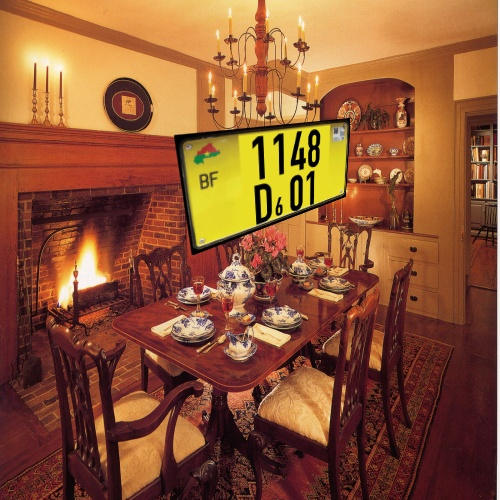plate: (145, 101, 372, 270)
